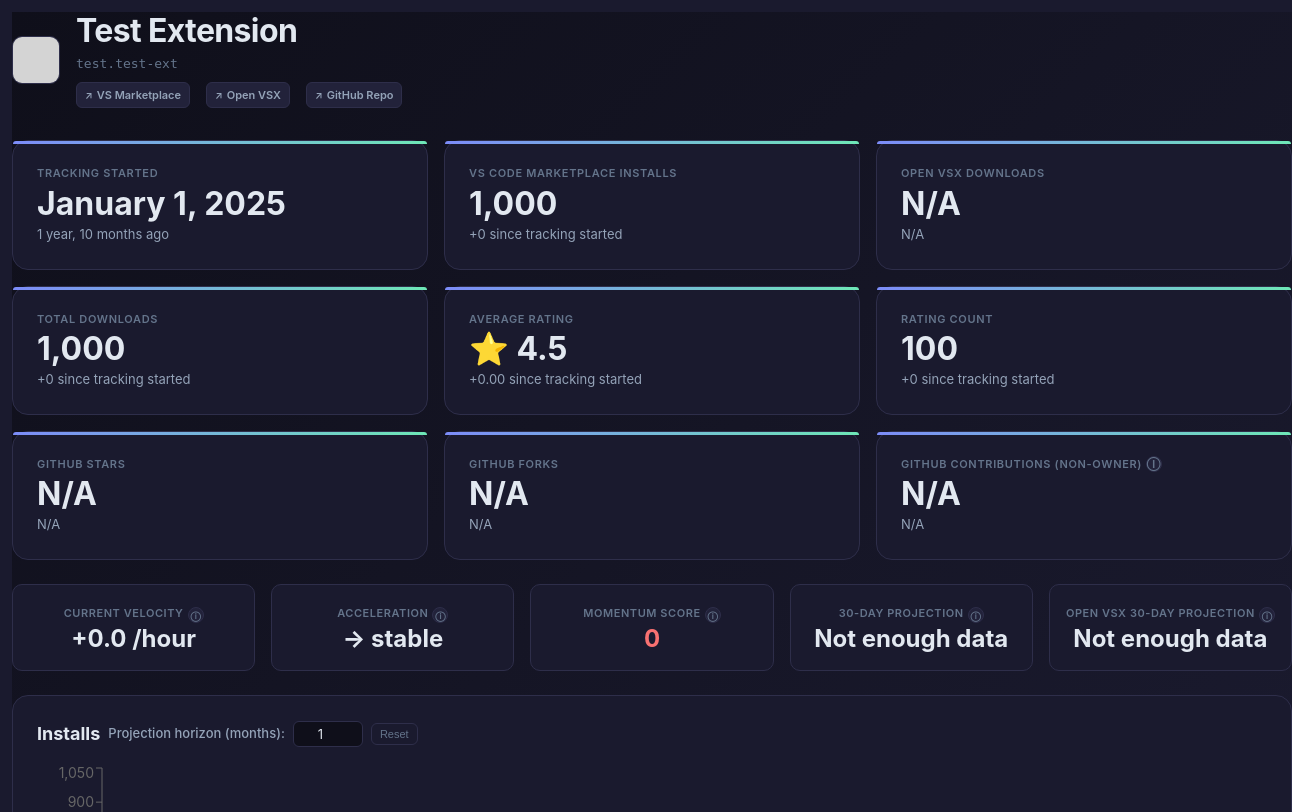
Scenario: ExtensionDetail › resets projection months to 1 when reset is clicked
Change to 5
Replace the text in the number field labelled "Projection horizon (months):" with "5" at (328, 734), box 293,721 -> 363,747
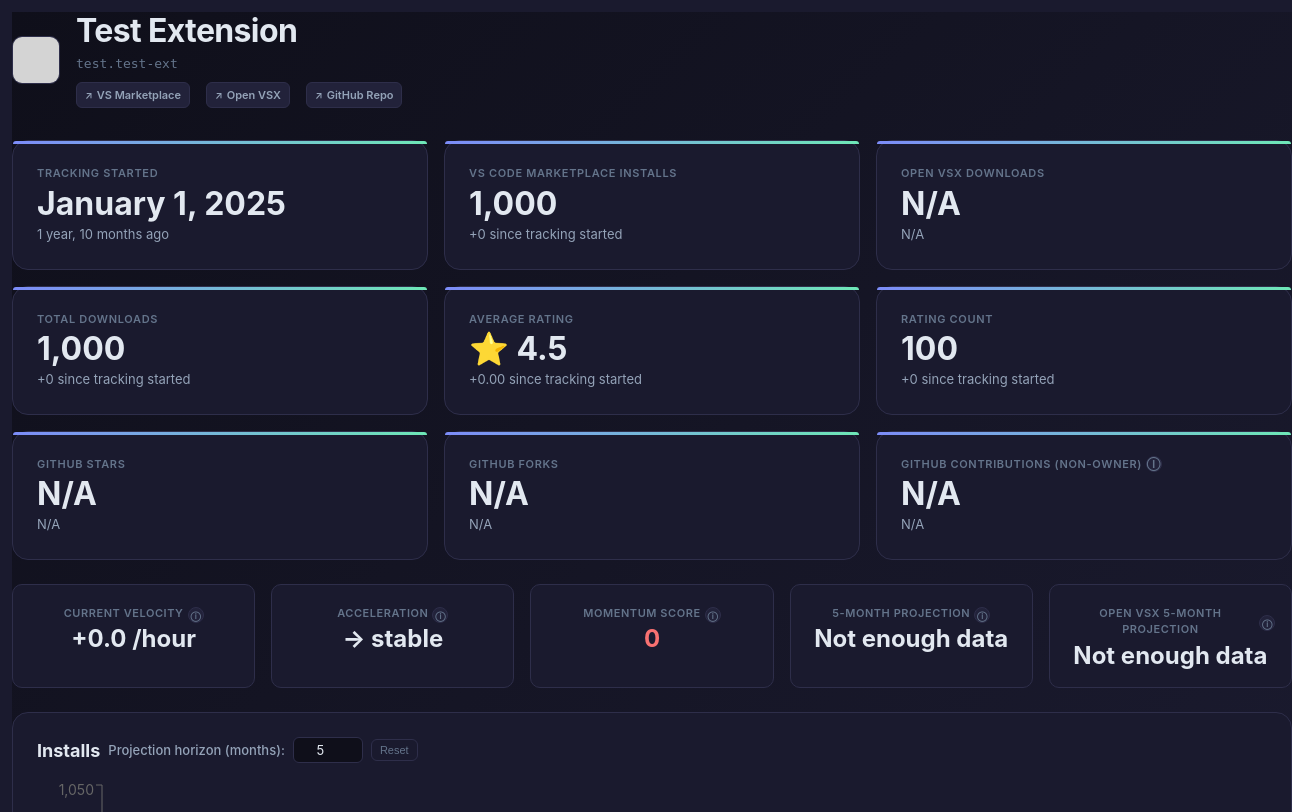
Click reset
Click the button "Reset" at (394, 750), box 371,739 -> 418,761
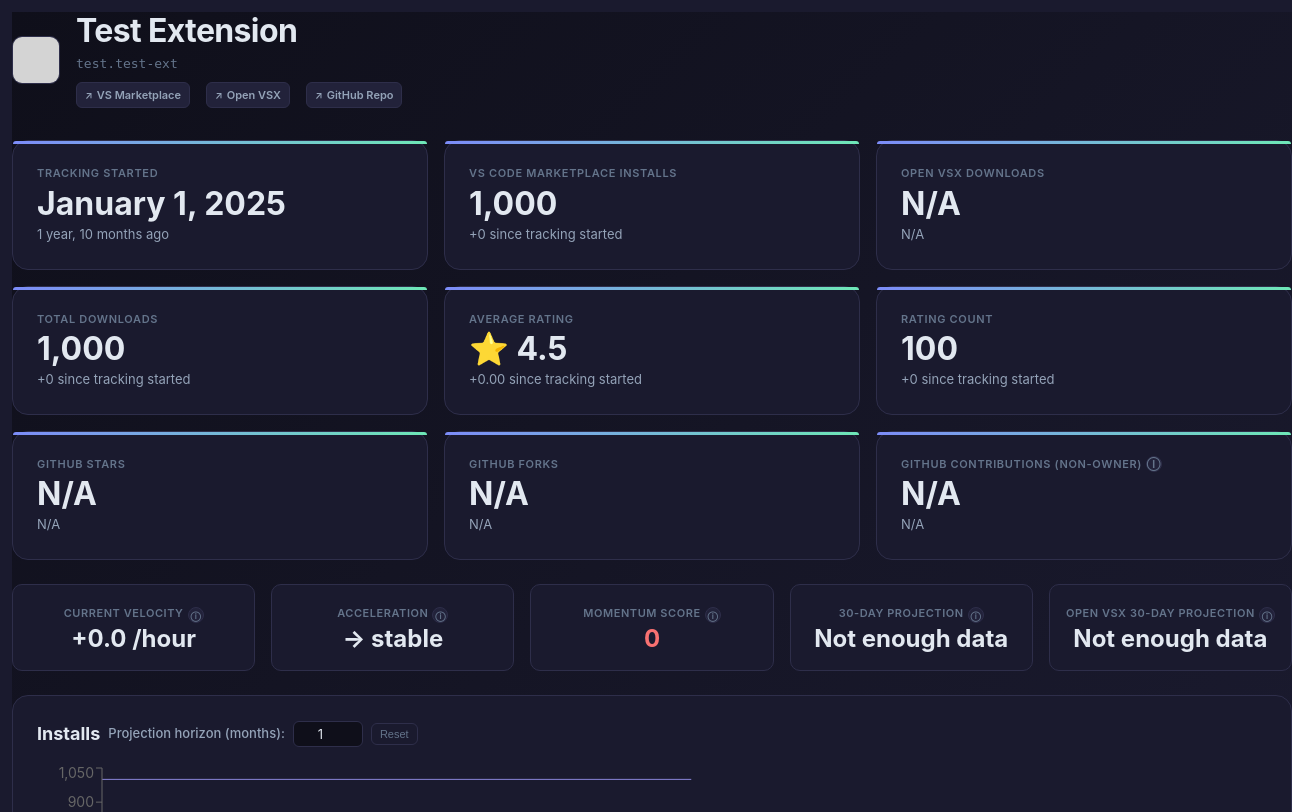
Now the number field labelled "Projection horizon (months):" holds "1", box 293,721 -> 363,747
